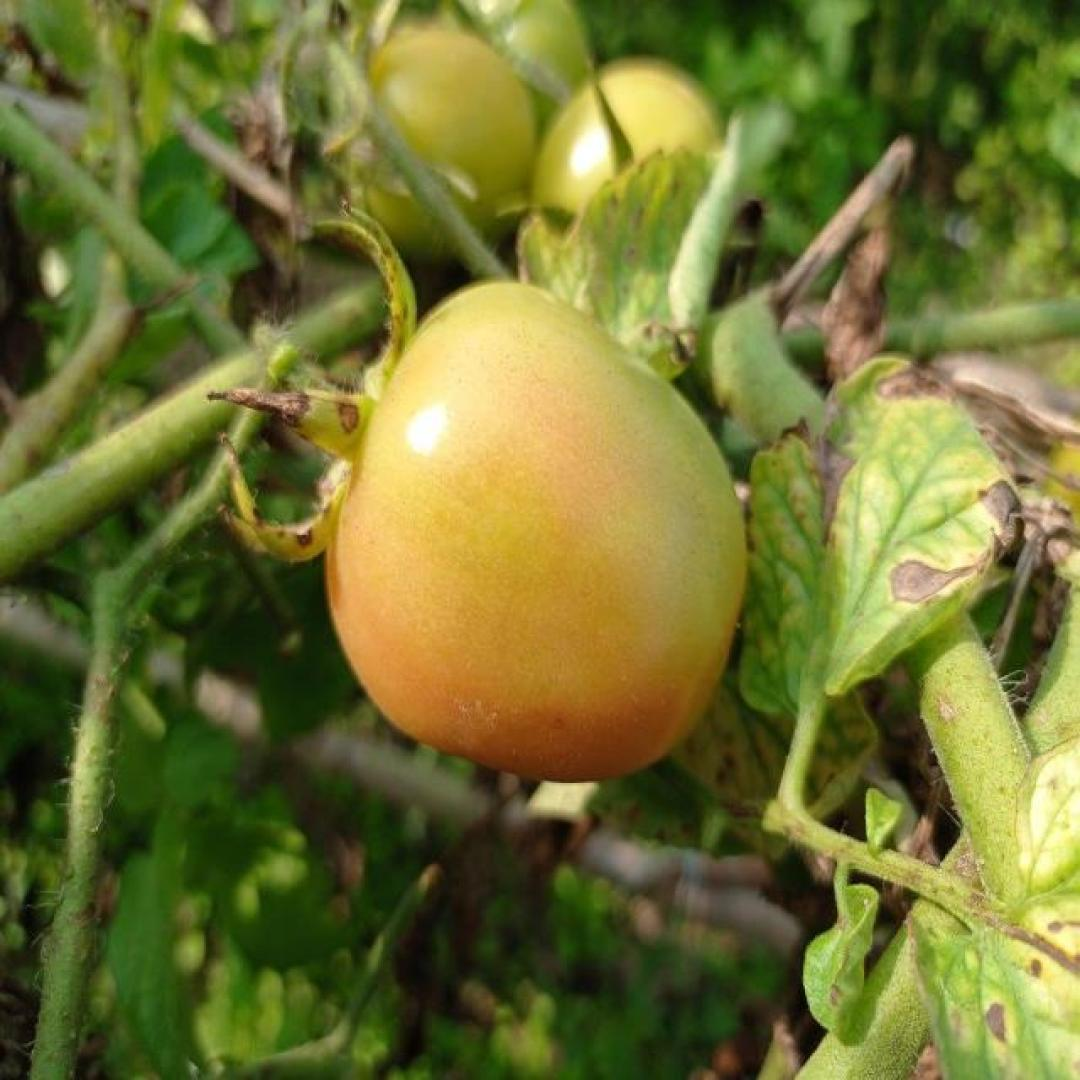setengah_matang: (322, 277, 751, 786)
